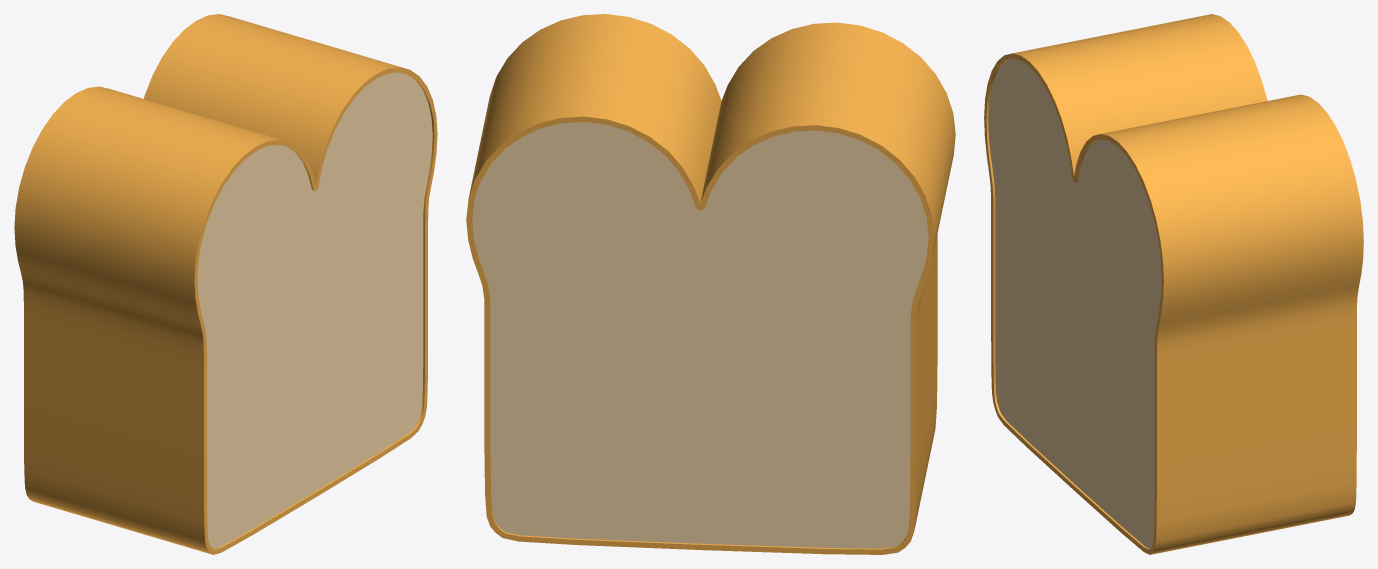
File: bread.glb
The picture shows the model from 3 angles, left to right: view 1: azimuth 30°, elevation 25°; view 2: azimuth 150°, elevation 25°; view 3: azimuth 270°, elevation 25°; orthographic projection. The views are drawn at different scales.
Parts seen in each view (by area): view 1: Circle.2201; view 2: Circle.2201; view 3: Circle.2201.
Boxes of the visible parts, box(x1,y1,x2,y2) form: Circle.2201: box(14, 14, 437, 554); Circle.2201: box(466, 14, 955, 554); Circle.2201: box(984, 14, 1363, 554).
Bounding box in the file's own units: 2.19 × 1.96 × 1.74.
1 material, 1 textured.
